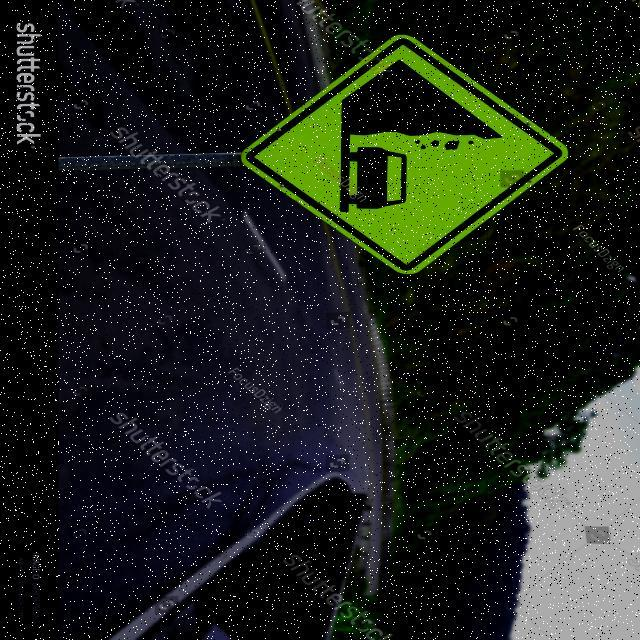Traffic sign: (239, 28, 573, 281)
